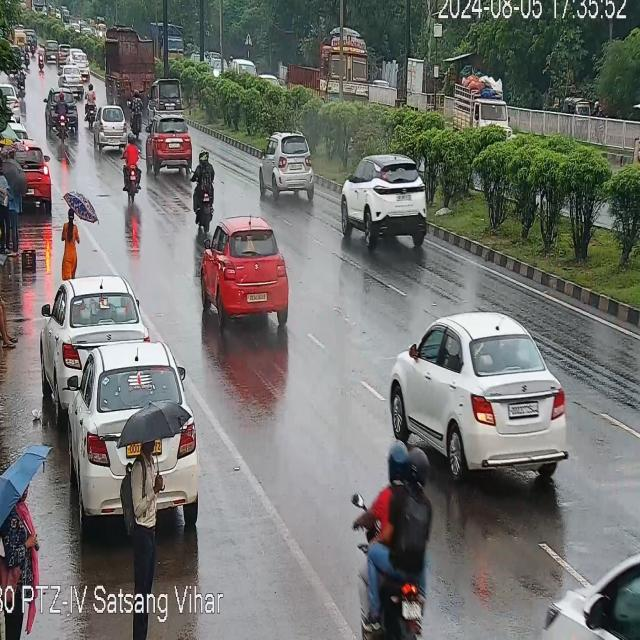2-wheelers: (369, 432, 432, 640), (116, 133, 146, 205), (196, 150, 213, 232), (55, 90, 68, 142), (85, 83, 98, 127), (37, 42, 45, 74), (24, 42, 29, 68)
car: (384, 311, 568, 480), (70, 346, 188, 460), (198, 218, 298, 336), (42, 274, 140, 382), (341, 150, 438, 243), (558, 536, 640, 640), (258, 133, 314, 203), (146, 116, 194, 174), (25, 142, 54, 212), (46, 86, 80, 128), (150, 78, 184, 112), (58, 62, 84, 94), (70, 51, 92, 79), (44, 34, 58, 62), (59, 42, 71, 62)
pedestrian: (122, 407, 187, 501), (0, 472, 44, 570), (0, 147, 22, 251), (60, 206, 80, 274), (0, 270, 18, 344)
truck: (286, 29, 368, 105), (104, 11, 154, 100), (452, 52, 510, 121), (150, 21, 183, 61)
